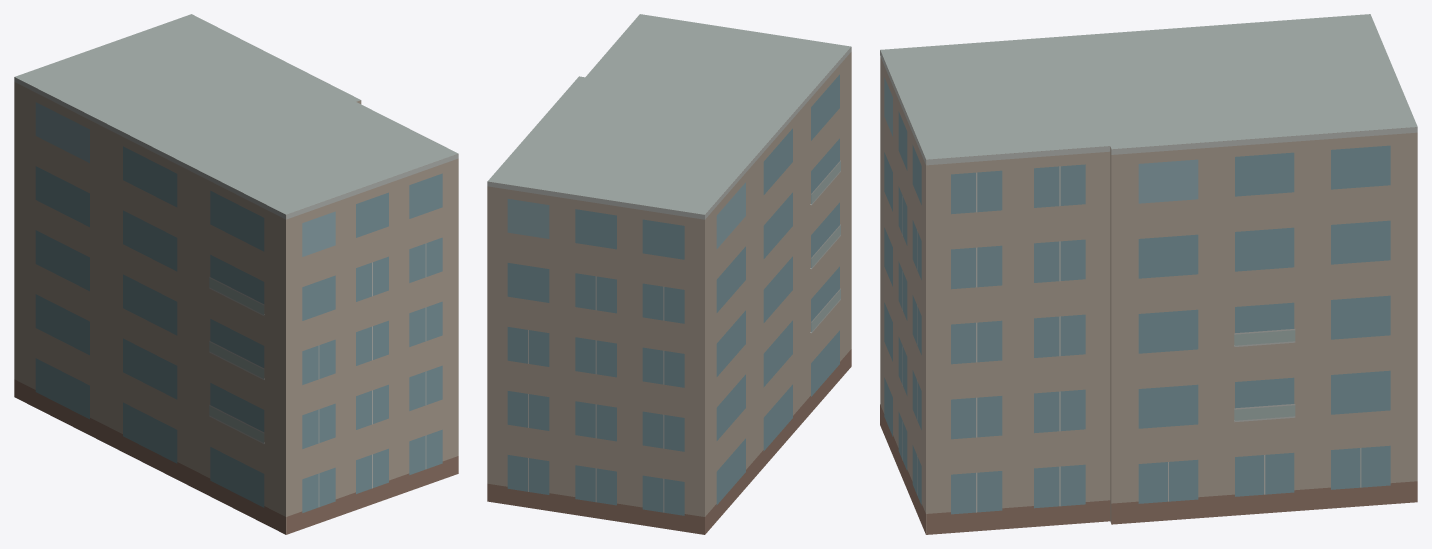
File: survey-upis-33017467.glb
3 views of the same model, side by side, from view 1: azimuth 30°, elevation 25°; view 2: azimuth 150°, elevation 25°; view 3: azimuth 270°, elevation 25° (orthographic). The views are drawn at different scales.
Visible parts, largest first — view 1: survey-upis-33017467.tmp; view 2: survey-upis-33017467.tmp; view 3: survey-upis-33017467.tmp.
Part boxes in pixels (x1,y1,x2,y2): survey-upis-33017467.tmp: (14, 14, 458, 534); survey-upis-33017467.tmp: (487, 14, 851, 534); survey-upis-33017467.tmp: (880, 14, 1417, 534).
Bounding box in the file's own units: 13.33 × 16 × 20.78.
